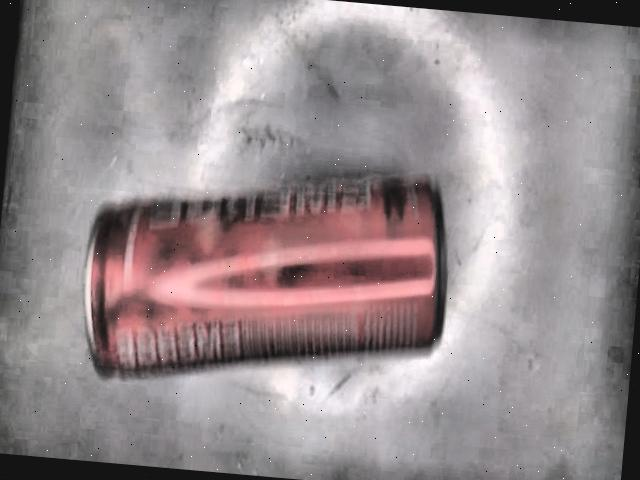Bottles: (86, 174, 447, 374)
